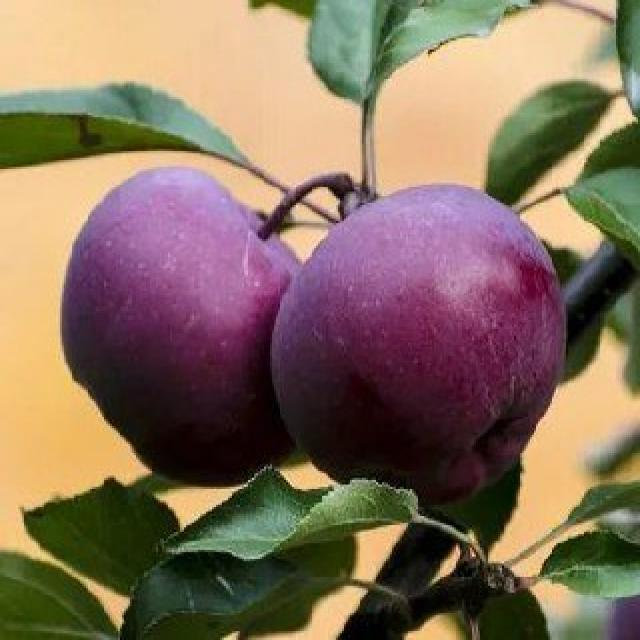Fresh Apple: (278, 187, 565, 498), (59, 168, 298, 477)
